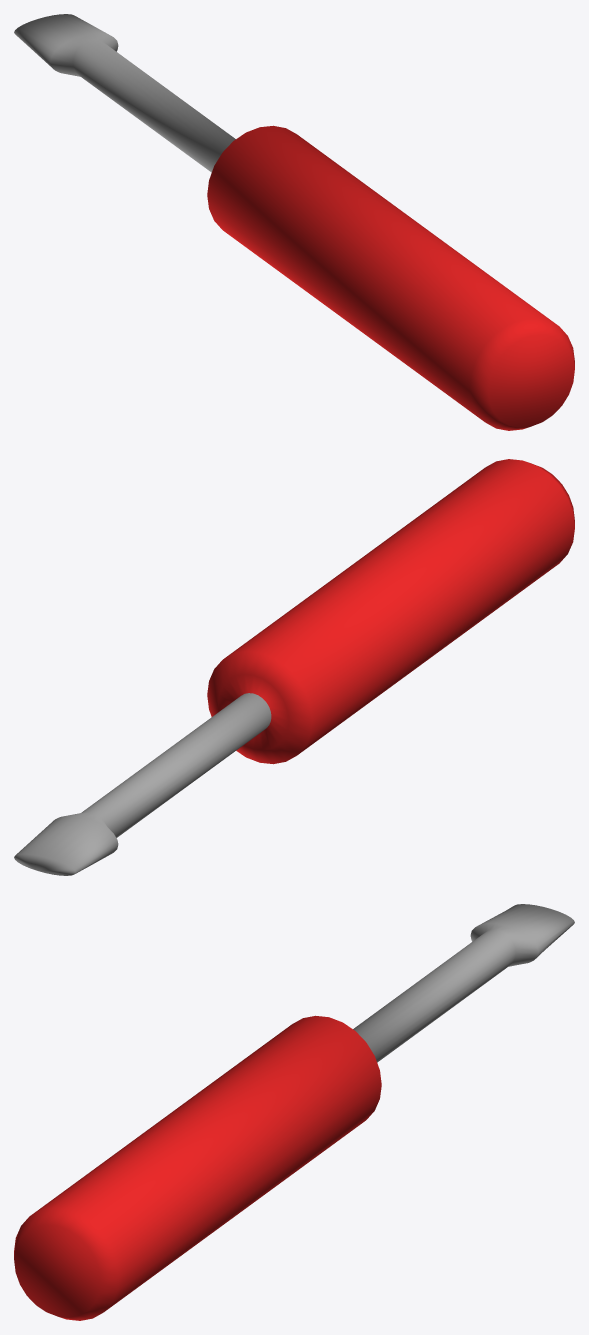
File: screwdriver.fbx
3 renders of one model, top to bottom at view 1: azimuth 30°, elevation 25°; view 2: azimuth 150°, elevation 25°; view 3: azimuth 330°, elevation 25°, orthographic.
Visible parts, largest first — view 1: Screwdriver; view 2: Screwdriver; view 3: Screwdriver.
Part boxes in pixels (box(x1,y1,x2,y2)): Screwdriver: box(14, 14, 574, 430); Screwdriver: box(14, 459, 574, 875); Screwdriver: box(14, 904, 574, 1320).
Size of the model in its own units: 108 by 867 by 108.
